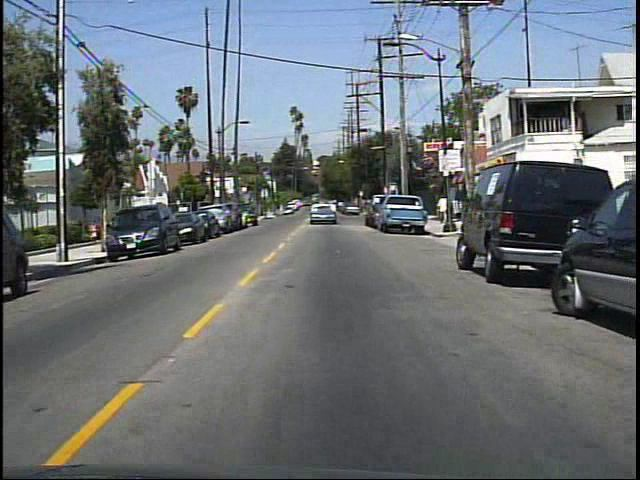person: (435, 194, 454, 227), (87, 218, 104, 245)
